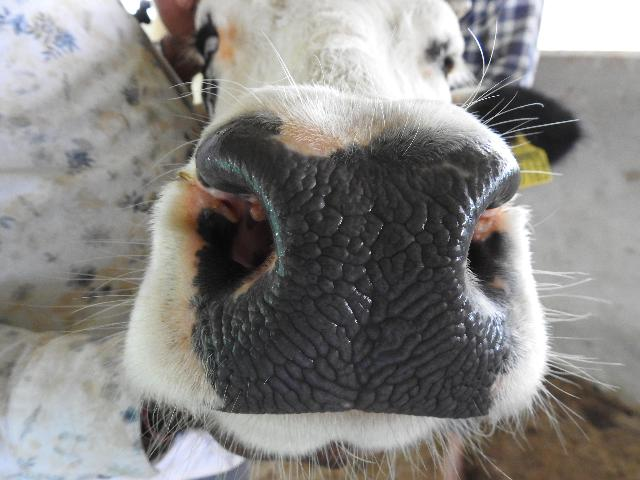Muzzle: (261, 156, 467, 404)
